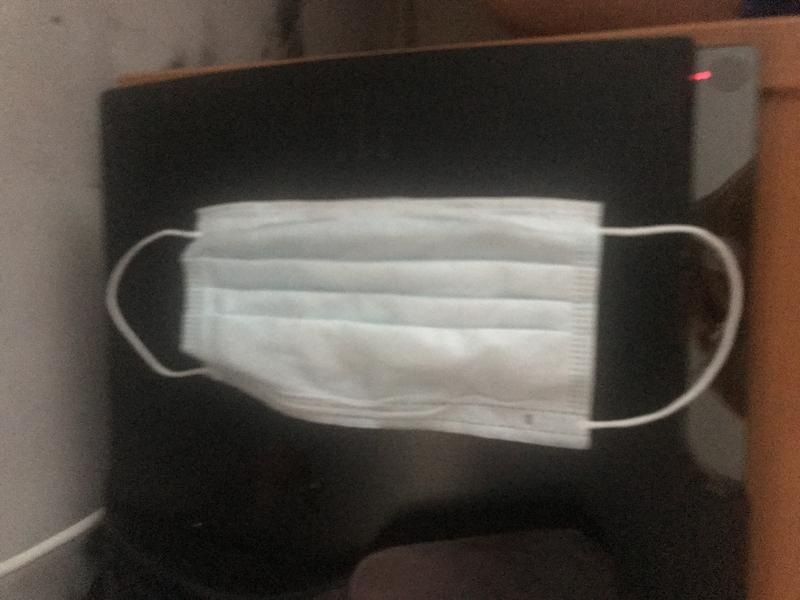medical_mask: (104, 196, 741, 450)
